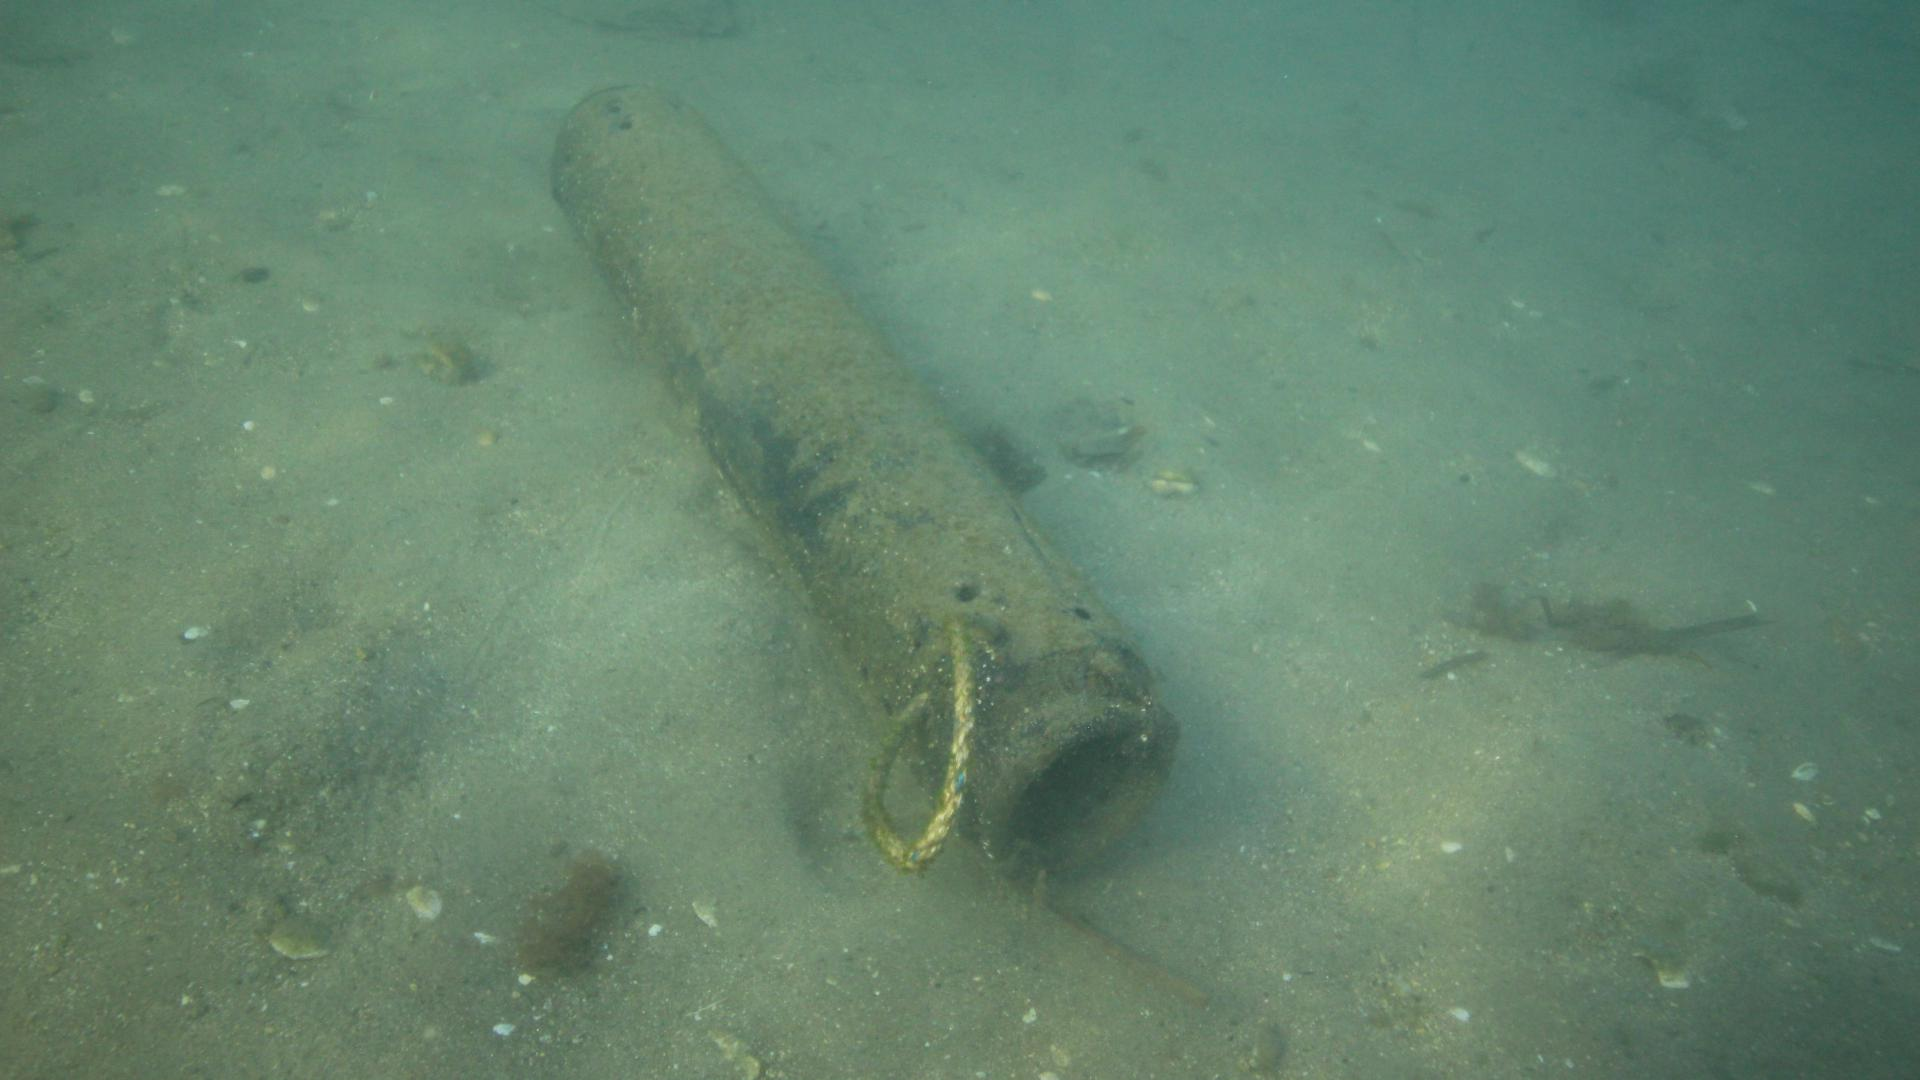eel fish trap: (546, 79, 1182, 876)
rope: (861, 618, 975, 872)
